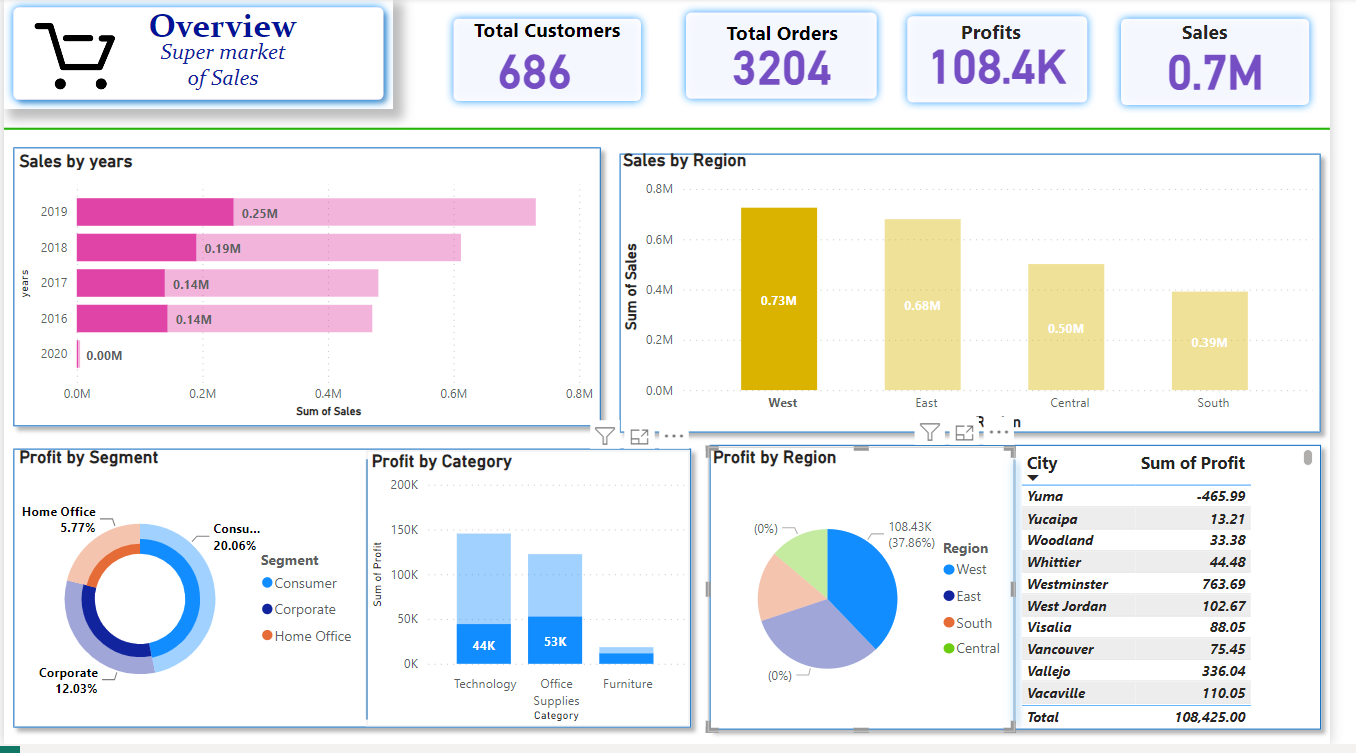

The dashboard page shown, as its layout file describes it:
{"tool":"powerbi","page":{"name":"Dashboard","canvas":[1280,720],"ordinal":0},"visuals":[{"type":"shape","box":[0,27.7,1279.6,196.6],"z":0},{"type":"shape","box":[0,0,375.1,107.3],"z":1000},{"type":"shape","box":[425.7,12.1,196.6,95.3],"z":2000},{"type":"shape","box":[650.1,6,200.2,98.9],"z":3000},{"type":"shape","box":[1069.7,12.1,197.8,98.9],"z":4000},{"type":"shape","box":[863,9.4,189.3,98.9],"z":5000},{"type":"textbox","box":[1.2,2.4,299.1,49.4],"z":6000},{"type":"textbox","box":[435.4,13.3,177.3,43.4],"z":7000},{"type":"textbox","box":[1069.7,14.5,177.3,43.4],"z":8000},{"type":"textbox","box":[863.5,14.5,177.3,43.4],"z":9000},{"type":"textbox","box":[1.2,33.8,300.3,65.1],"z":10000},{"type":"image","box":[19.3,14.5,97.7,86.8],"z":11000},{"type":"shape","box":[0,135.1,584.9,287],"z":12000},{"type":"shape","box":[585.3,140.9,694.7,287],"z":13000},{"type":"shape","box":[0,425.7,671.8,287],"z":14000},{"type":"shape","box":[671.8,422.1,607.8,293.1],"z":15000},{"type":"shape","box":[824.9,436.6,300.3,272.6],"z":16000},{"type":"card","fields":{"Values":["Supersore Analysis.Total Customers"]},"box":[435.4,38.6,153.2,55.5],"z":17000},{"type":"textbox","box":[661.8,15.4,177.3,37.4],"z":18000},{"type":"card","fields":{"Values":["Supersore Analysis.Total Order"]},"box":[662.1,35,177.3,55.5],"z":19000},{"type":"card","fields":{"Values":["Supersore Analysis.Profit"]},"box":[885.2,33.8,144.7,55.5],"z":20000},{"type":"card","fields":{"Values":["Supersore Analysis.Total Sales"]},"box":[1090.3,38.6,156.8,55.5],"z":21000},{"type":"clusteredBarChart","title":"Sales by years","fields":{"Category":["Orders.years"],"Y":["Sum(Orders.Sales)"]},"box":[9.6,145.9,565.6,264.1],"z":22000},{"type":"pieChart","title":"Profit by Region","fields":{"Category":["Orders.Region"],"Y":["Sum(Orders.Profit)"]},"box":[679,433,296.7,275],"z":23000},{"type":"tableEx","fields":{"Values":["Orders.City","Sum(Orders.Profit)"]},"box":[975.7,430.6,291.9,277.4],"z":24000},{"type":"donutChart","title":"Profit by Segment","fields":{"Y":["Sum(Orders.Profit)"],"Series":["Orders.Segment"]},"box":[9.6,433,340.1,275],"z":25000},{"type":"shape","box":[200.2,445,300.3,250.9],"z":26000},{"type":"columnChart","title":"Profit by Category","fields":{"Category":["Orders.Category"],"Y":["Sum(Orders.Profit)"]},"box":[349.7,436.6,312.4,266.5],"z":27000},{"type":"clusteredColumnChart","title":"Sales by Region","fields":{"Y":["Sum(Orders.Sales)"],"Category":["Orders.Region"]},"box":[592.2,145.9,675.4,276.2],"z":28000}]}

Visuals, with their boxes in screenshot pixels (x1, y1, x2, y2), scaled from the page's 1280x720 canvas onto the 1356x753 screenshot:
shape: (x1=0, y1=29, x2=1355, y2=235)
shape: (x1=0, y1=0, x2=397, y2=112)
shape: (x1=451, y1=13, x2=659, y2=112)
shape: (x1=689, y1=6, x2=901, y2=110)
shape: (x1=1133, y1=13, x2=1343, y2=116)
shape: (x1=914, y1=10, x2=1115, y2=113)
textbox: (x1=1, y1=3, x2=318, y2=54)
textbox: (x1=461, y1=14, x2=649, y2=59)
textbox: (x1=1133, y1=15, x2=1321, y2=61)
textbox: (x1=915, y1=15, x2=1103, y2=61)
textbox: (x1=1, y1=35, x2=319, y2=103)
image: (x1=20, y1=15, x2=124, y2=106)
shape: (x1=0, y1=141, x2=620, y2=441)
shape: (x1=620, y1=147, x2=1355, y2=448)
shape: (x1=0, y1=445, x2=712, y2=745)
shape: (x1=712, y1=441, x2=1355, y2=748)
shape: (x1=874, y1=457, x2=1192, y2=742)
card - Supersore Analysis.Total Customers: (x1=461, y1=40, x2=624, y2=98)
textbox: (x1=701, y1=16, x2=889, y2=55)
card - Supersore Analysis.Total Order: (x1=701, y1=37, x2=889, y2=95)
card - Supersore Analysis.Profit: (x1=938, y1=35, x2=1091, y2=93)
card - Supersore Analysis.Total Sales: (x1=1155, y1=40, x2=1321, y2=98)
"Sales by years" clusteredBarChart: (x1=10, y1=153, x2=609, y2=429)
"Profit by Region" pieChart: (x1=719, y1=453, x2=1034, y2=740)
tableEx - Orders.City x Sum(Orders.Profit): (x1=1034, y1=450, x2=1343, y2=740)
"Profit by Segment" donutChart: (x1=10, y1=453, x2=370, y2=740)
shape: (x1=212, y1=465, x2=530, y2=728)
"Profit by Category" columnChart: (x1=370, y1=457, x2=701, y2=735)
"Sales by Region" clusteredColumnChart: (x1=627, y1=153, x2=1343, y2=441)
